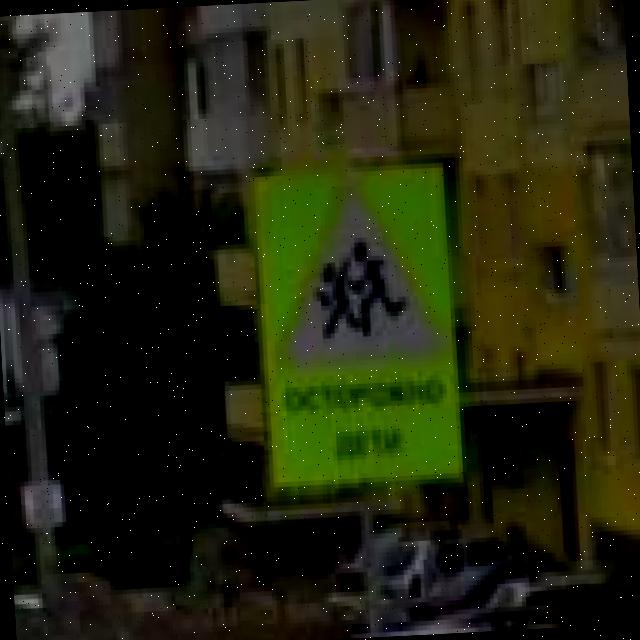Dzieci: (262, 168, 458, 380)
